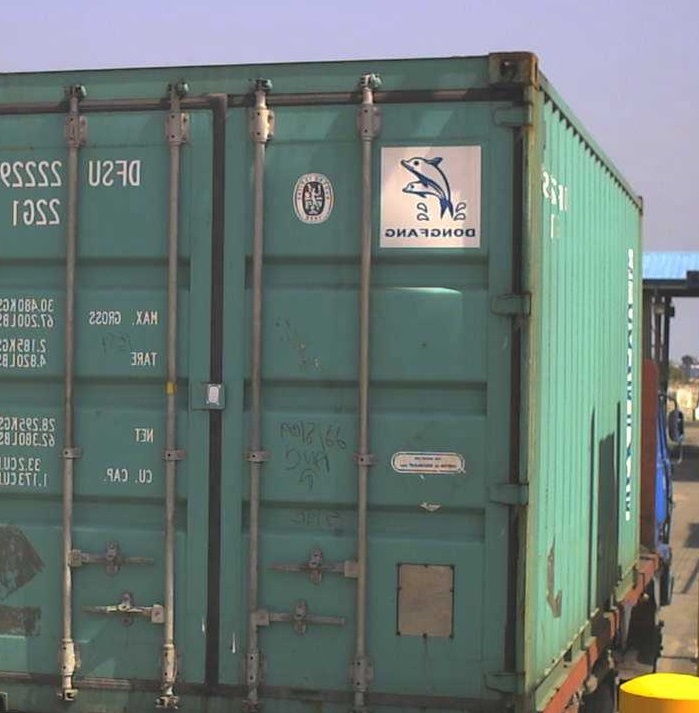container_door: (3, 51, 547, 706)
